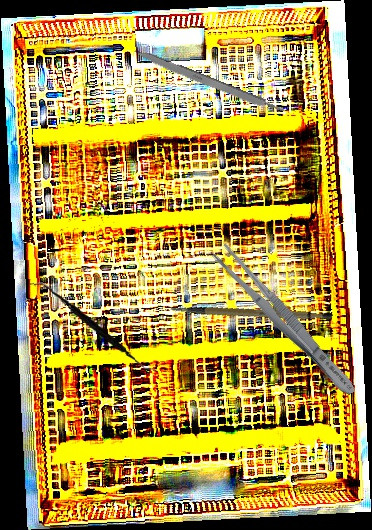Dressing Forceps: (209, 240, 362, 402)
Scalpel Handle: (130, 46, 288, 119), (169, 280, 334, 342)
Spatula Surgical: (22, 281, 165, 373)
